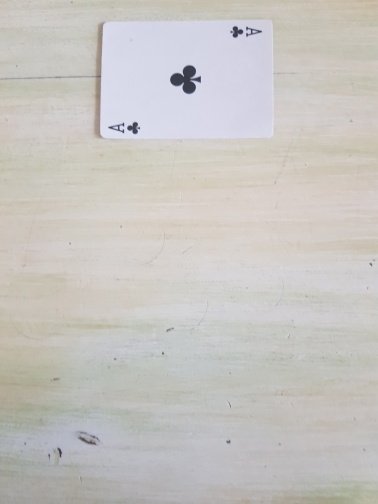ace: (98, 17, 277, 140)
